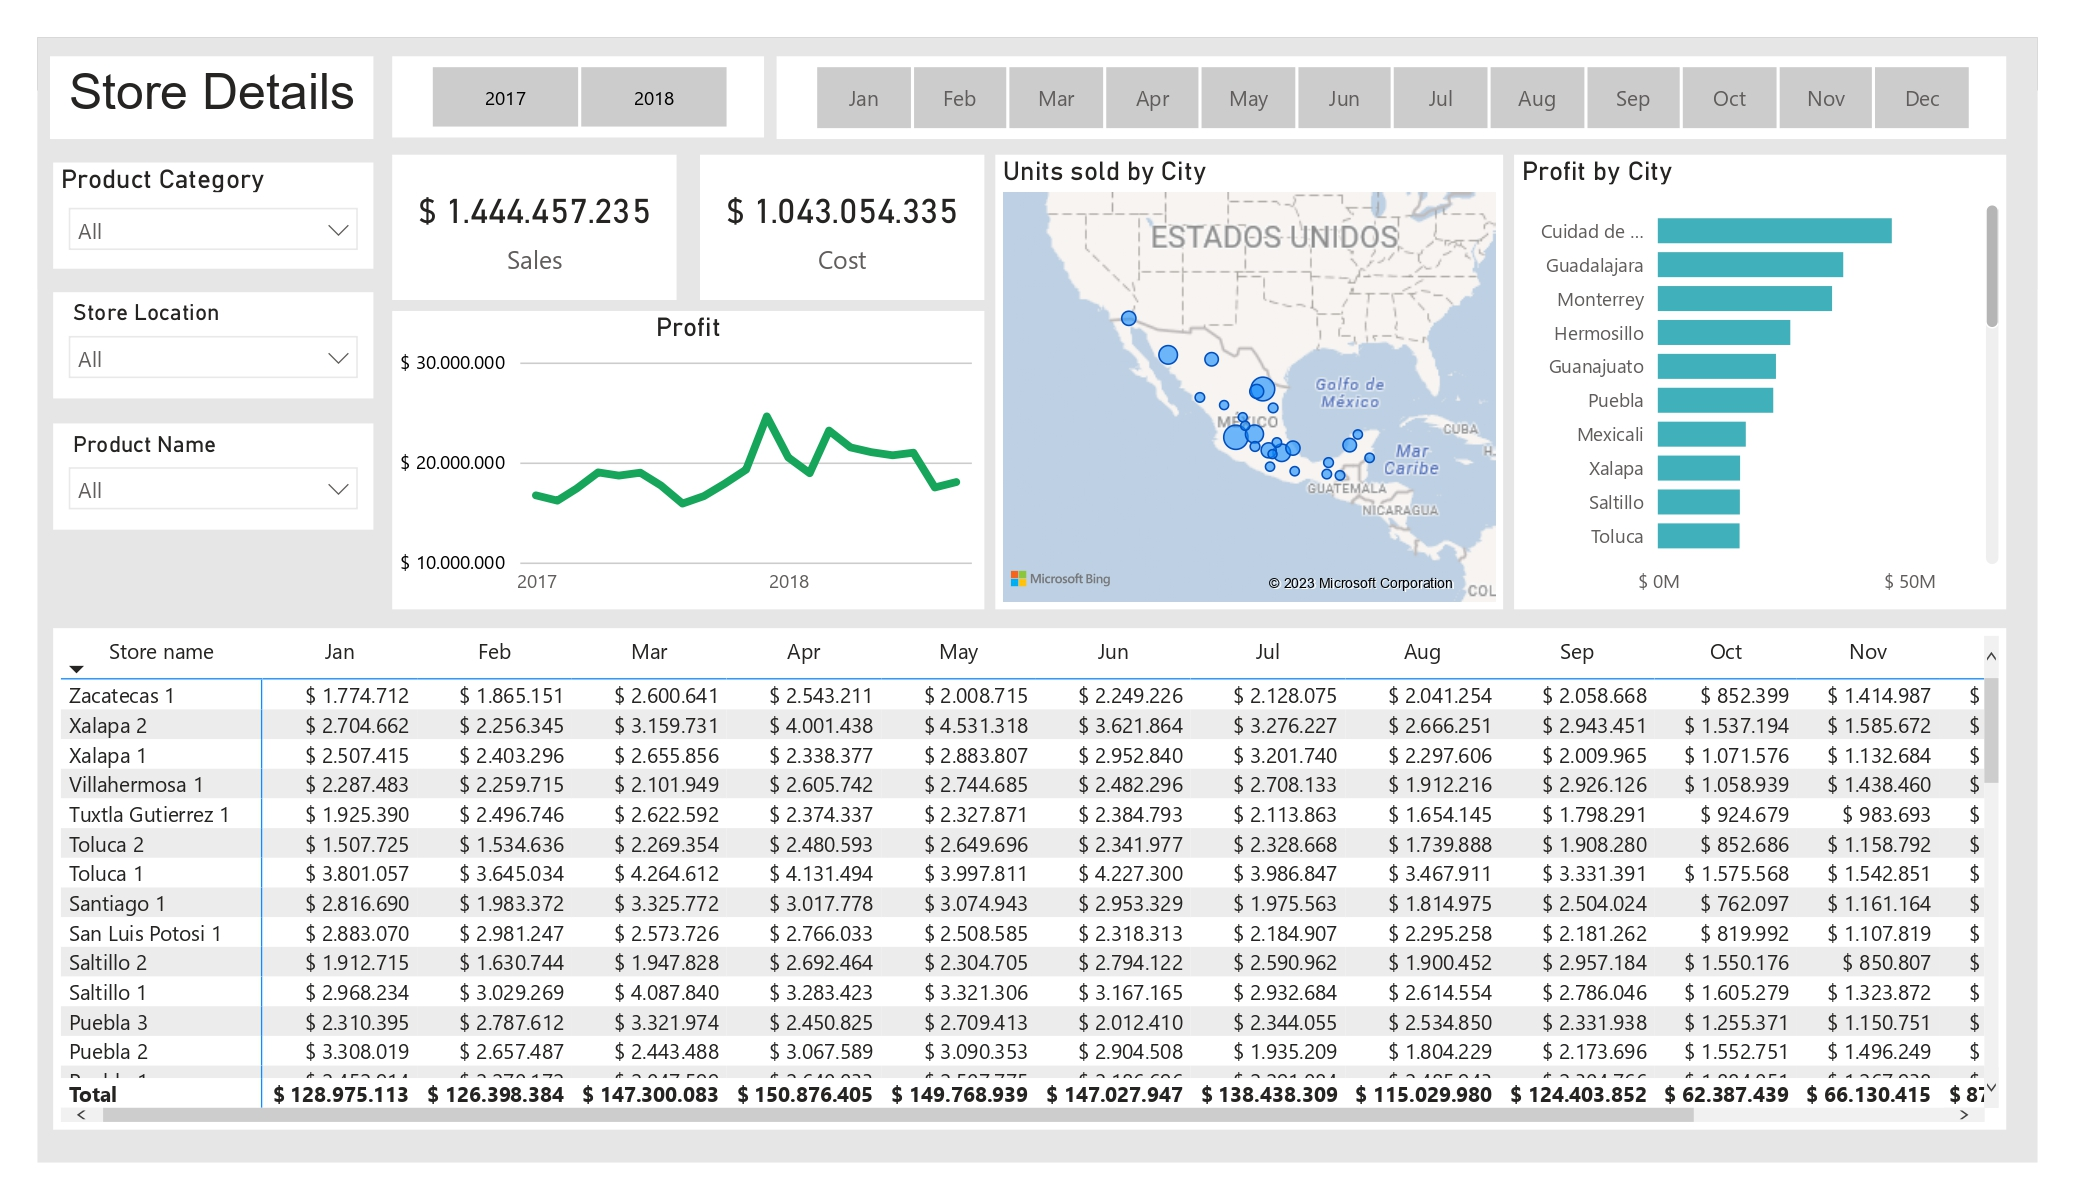

What the dashboard file says about the page in this screenshot:
{"tool":"powerbi","page":{"name":"City details","canvas":[1280,720],"ordinal":1},"visuals":[{"type":"pivotTable","fields":{"Values":["Sum(sales.Total Price)"],"Rows":["stores.Name"],"Columns":["sales.Short Month"]},"box":[9.8,377.7,1250.2,321],"z":0},{"type":"slicer","title":"Product Category","fields":{"Values":["products.Product_Category"]},"box":[9.8,79.8,204.8,68.3],"z":1000},{"type":"slicer","fields":{"Values":["products.Product_Name"]},"box":[9.8,246.5,204.8,68.3],"z":2000},{"type":"slicer","fields":{"Values":["stores.Store_Location"]},"box":[9.8,163.2,204.8,68.3],"z":3000},{"type":"clusteredBarChart","title":"Profit by City","fields":{"Category":["stores.Store_City"],"Y":["sales.price - Cost"]},"box":[945.2,75.4,314.8,290.8],"z":4000},{"type":"slicer","fields":{"Values":["sales.Date.Variation.Date Hierarchy.Year"]},"box":[227,12.4,237.6,51.4],"z":5000},{"type":"slicer","fields":{"Values":["sales.Short Month"]},"box":[473.5,12.4,786.5,52.3],"z":6000},{"type":"card","title":"Sales","fields":{"Values":["sales.Sales"]},"box":[227,75.4,178.2,92.2],"z":7000},{"type":"card","fields":{"Values":["sales.Cost"]},"box":[414.1,75.4,191.5,92.2],"z":8000},{"type":"lineChart","title":"Profit","fields":{"Category":["sales.Date.Variation.Date Hierarchy.Year","sales.Date.Variation.Date Hierarchy.Quarter","sales.Date.Variation.Date Hierarchy.Month"],"Y":["sales.price - Cost"]},"box":[227,174.7,378.6,191.5],"z":9000},{"type":"textbox","box":[8,12.4,206.6,52.3],"z":10000},{"type":"map","title":"Units sold by City","fields":{"Category":["stores.Store_City"],"Size":["Sum(sales.Units)"]},"box":[612.7,75.4,325.4,290.8],"z":11000}]}

Visuals, with their boxes in screenshot pixels (x1, y1, x2, y2):
pivotTable - Sum(sales.Total Price) x stores.Name: detection(53, 628, 2006, 1129)
"Product Category" slicer: detection(53, 162, 373, 269)
slicer - products.Product_Name: detection(53, 423, 373, 529)
slicer - stores.Store_Location: detection(53, 292, 373, 399)
"Profit by City" clusteredBarChart: detection(1514, 155, 2006, 610)
slicer - sales.Date.Variation.Date Hierarchy.Year: detection(392, 57, 763, 137)
slicer - sales.Short Month: detection(777, 57, 2006, 139)
"Sales" card: detection(392, 155, 671, 299)
card - sales.Cost: detection(685, 155, 984, 299)
"Profit" lineChart: detection(392, 310, 984, 610)
textbox: detection(50, 57, 373, 139)
"Units sold by City" map: detection(995, 155, 1503, 610)
